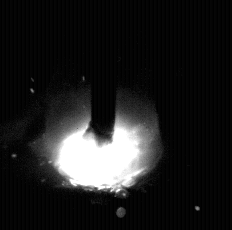arame: (91, 0, 117, 145)
poca: (39, 0, 163, 230)
